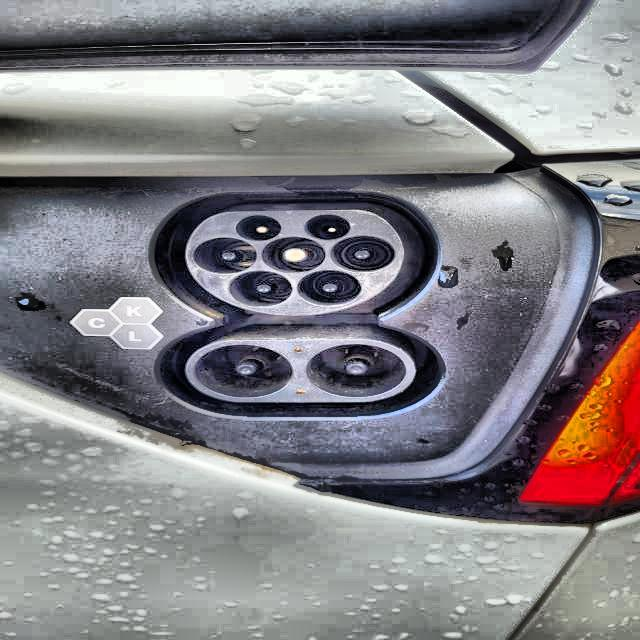inlet: (185, 210, 403, 316)
inlet-above-left: (236, 215, 282, 241)
inlet-above-right: (304, 214, 350, 240)
inlet-below-left: (229, 271, 292, 307)
inlet-below-right: (296, 270, 362, 307)
inlet-center: (261, 236, 326, 273)
inlet-center-left: (193, 237, 257, 274)
inlet-center-right: (330, 235, 395, 272)
